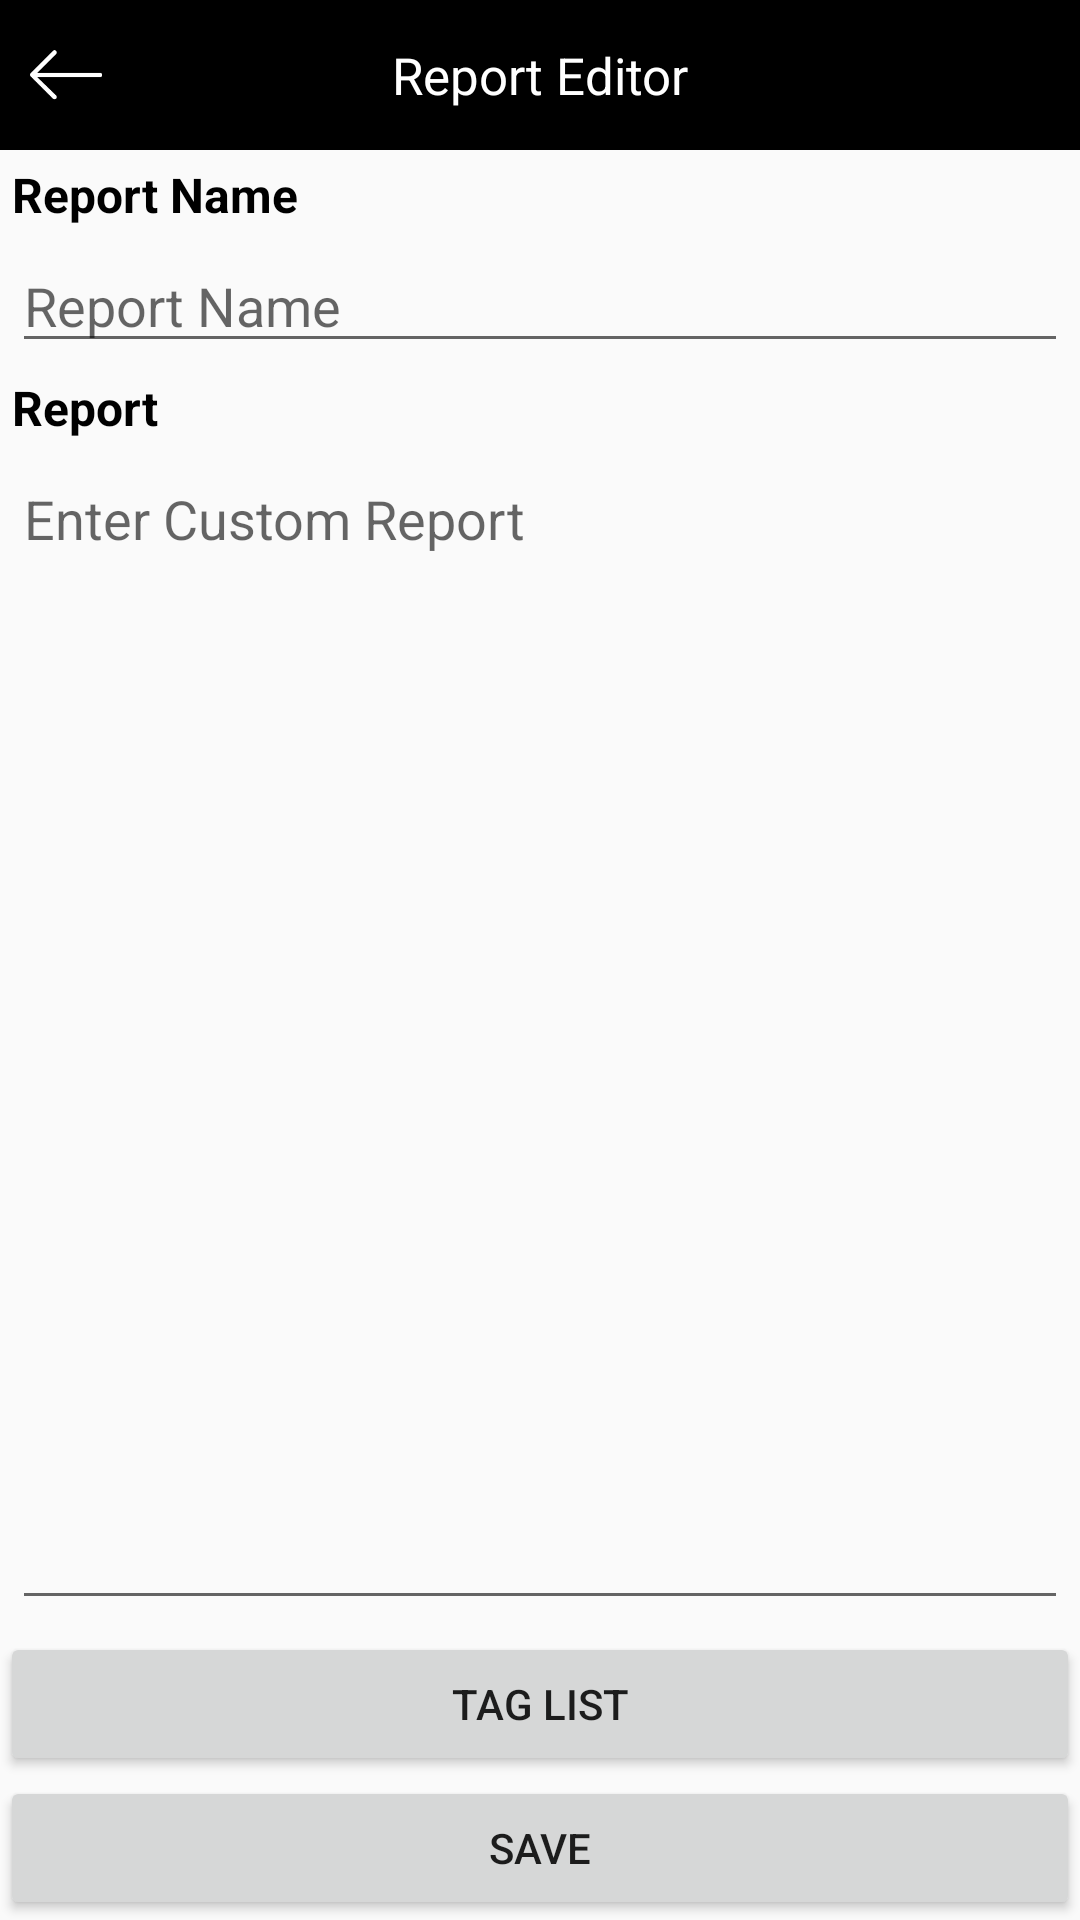

Named icons in this screenshot (1080px x 1920px) and their bounding boxes, (x1, y1, x2, y2):
whitebackarrow: (30, 50, 102, 100)
